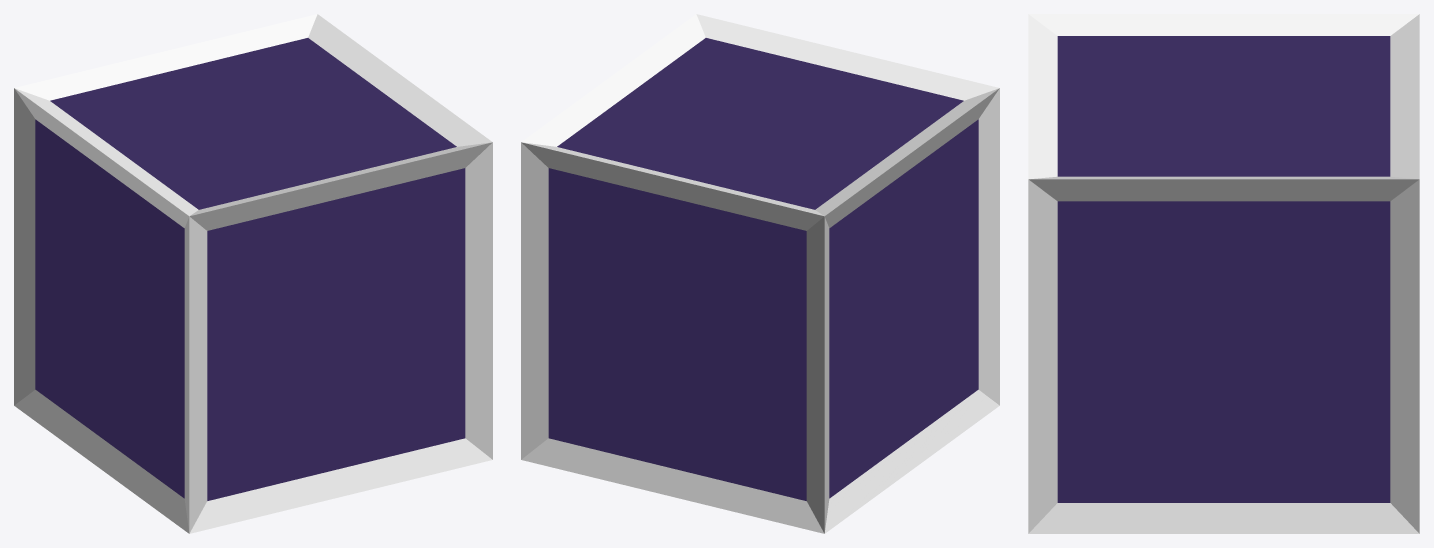
Rendered from NeonBlock.fbx.
3 views of the same model, side by side, from view 1: azimuth 30°, elevation 25°; view 2: azimuth 150°, elevation 25°; view 3: azimuth 270°, elevation 25° (orthographic). The views are drawn at different scales.
Visible parts, largest first — view 1: Cube; view 2: Cube; view 3: Cube.
Boxes of the visible parts, <box> form: Cube: <box>14,14,492,533</box>; Cube: <box>521,14,999,533</box>; Cube: <box>1028,14,1419,533</box>.
Bounding box in the file's own units: 212 × 212 × 212.
